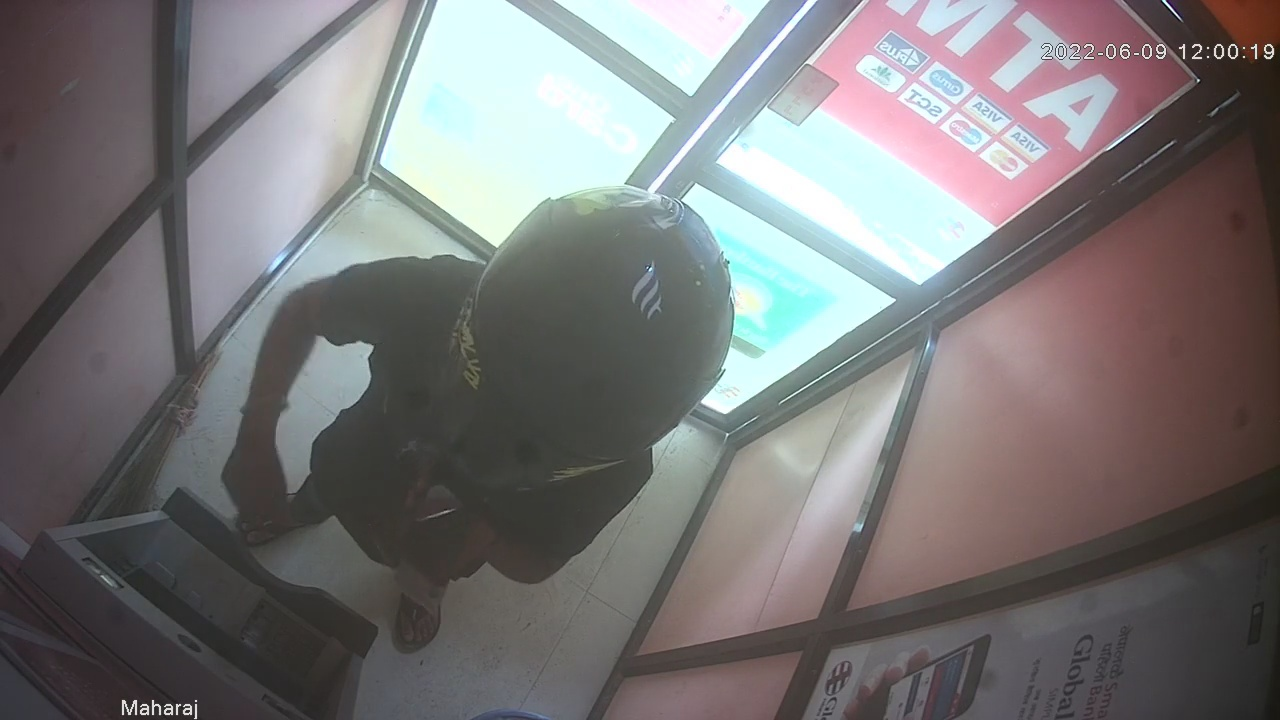helmet: (436, 182, 735, 493)
person: (220, 184, 735, 657)
